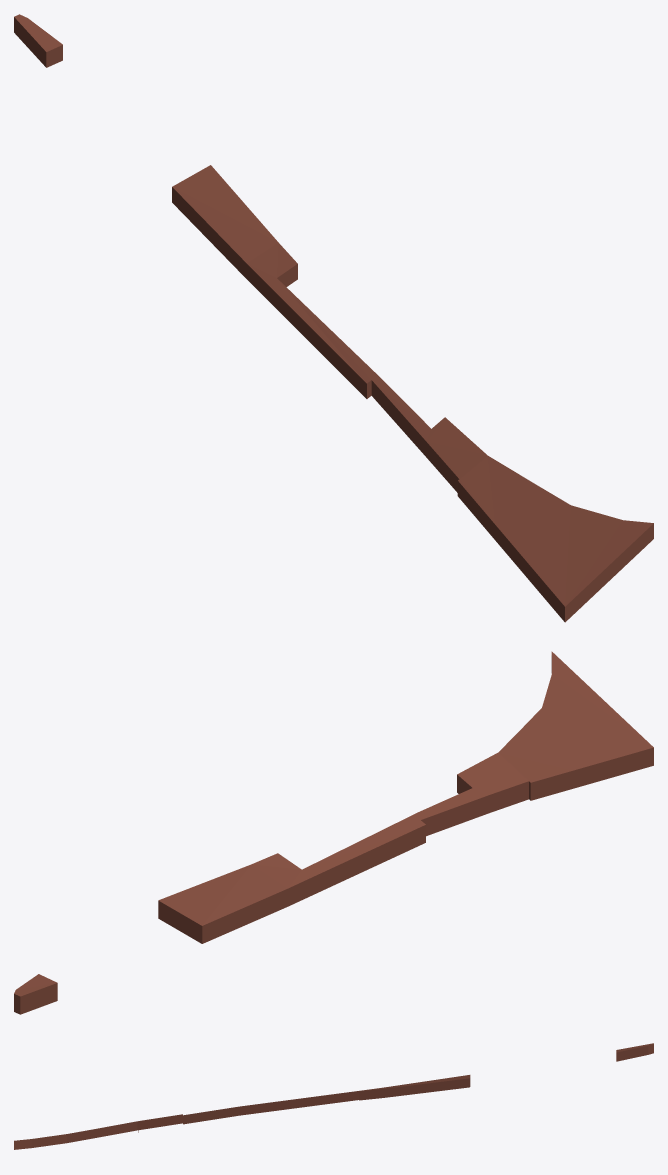
3 views of the same model, one above another, from view 1: azimuth 30°, elevation 25°; view 2: azimuth 150°, elevation 25°; view 3: azimuth 270°, elevation 25° (orthographic). The views are drawn at different scales.
Bounding box in the file's own units: 4.13 × 9.04 × 44.34.
